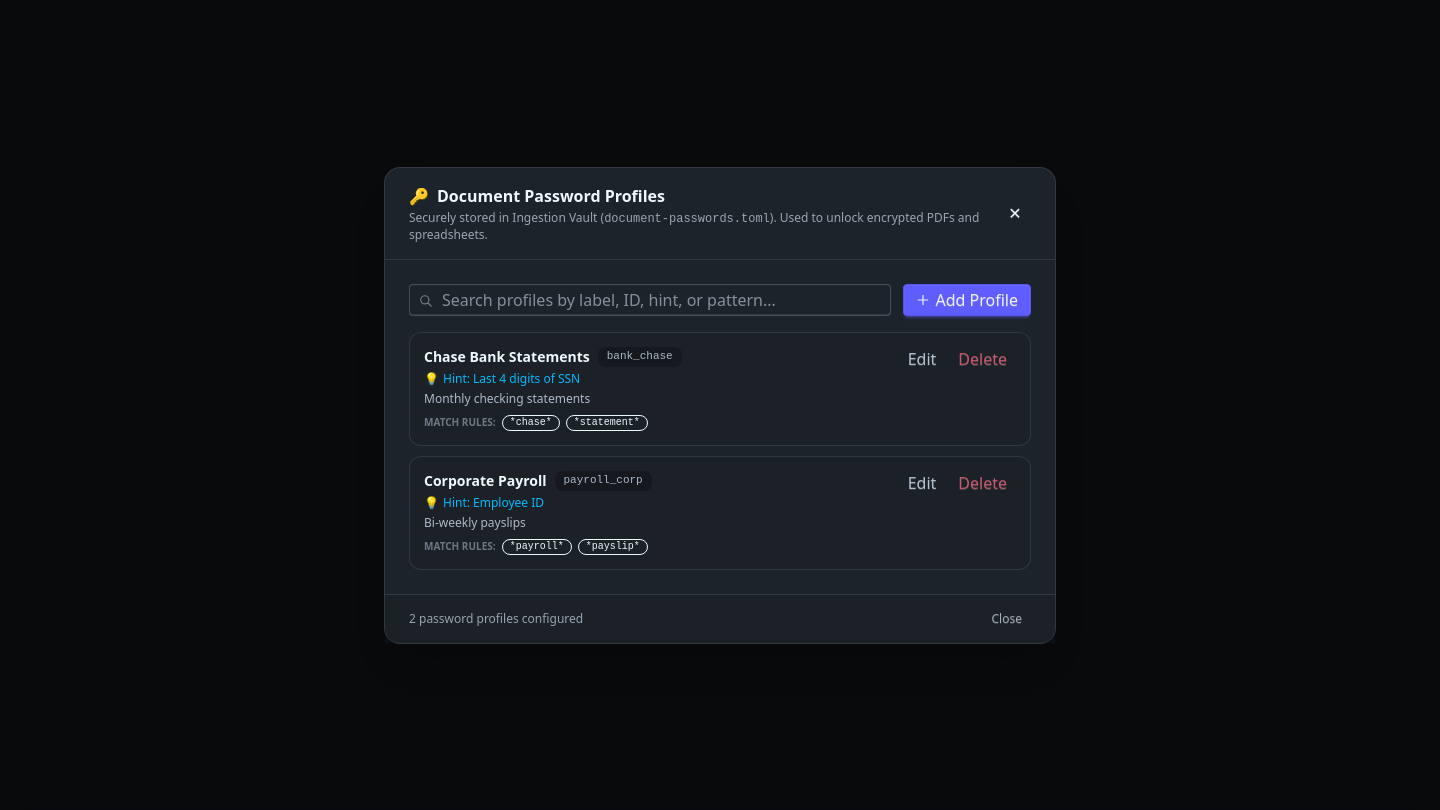
Test: filters profiles via search input
Expected: the text "Chase Bank Statements" is shown, [424,346,590,366]
Type "payroll" into the field with placeholder "Search profiles by label, ID, hint, or pattern...".
click(650, 300); type("payroll")  # box [409,284,890,316]
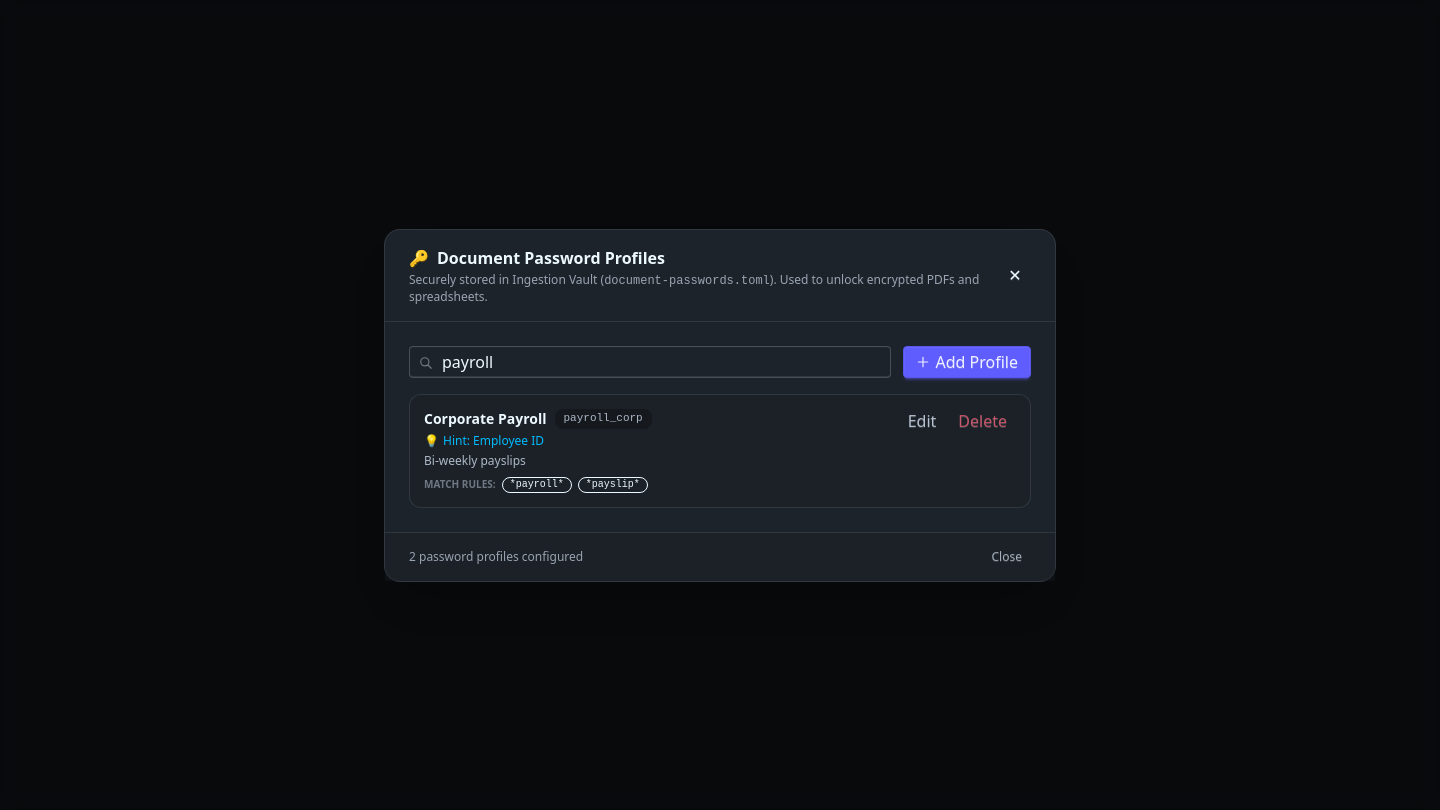
Expected: the text "Corporate Payroll" is shown, [424,408,546,428]
Now the text "Chase Bank Statements" is gone
